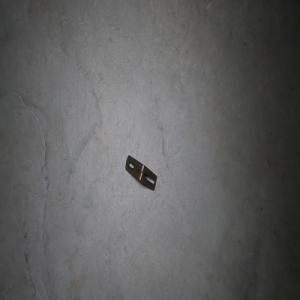MetalPart: (124, 153, 157, 191)
